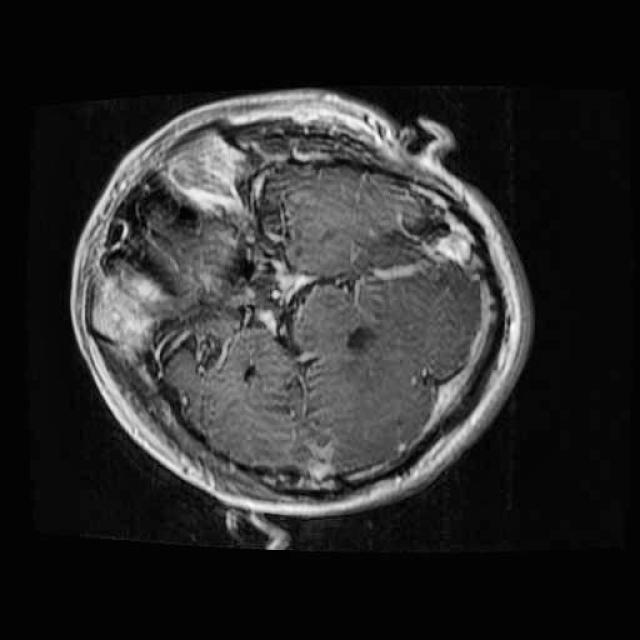Non-Tumor: (210, 252, 292, 330)
